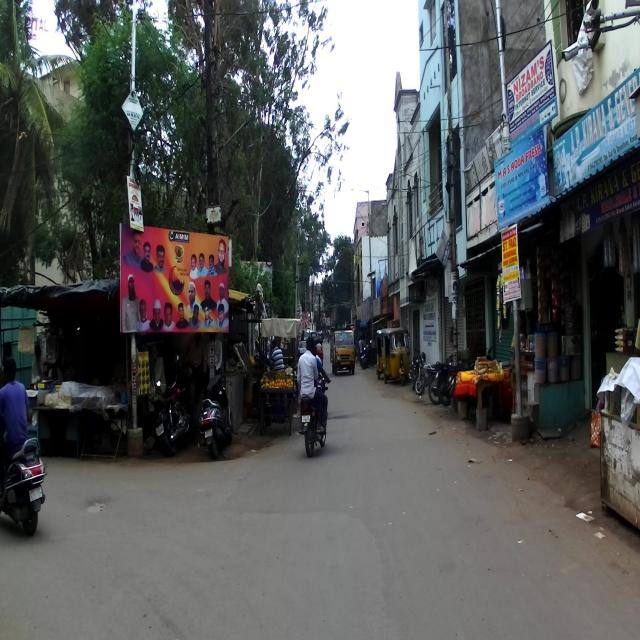motorcycle: (152, 350, 189, 457)
scooter: (0, 421, 46, 537), (200, 370, 232, 459)
truck: (330, 326, 356, 376)
